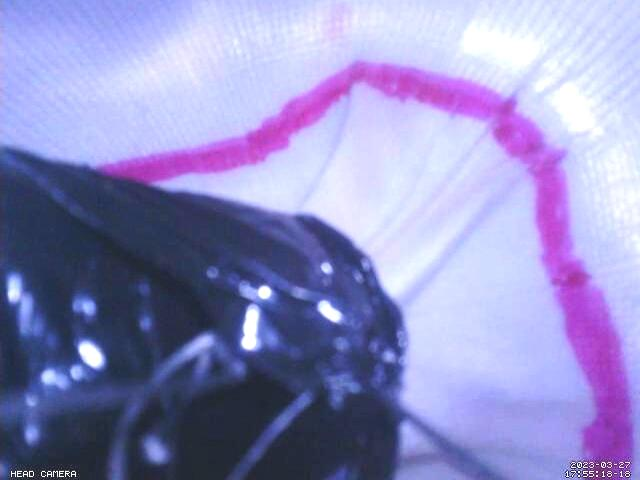red-circle: (97, 58, 637, 480)
